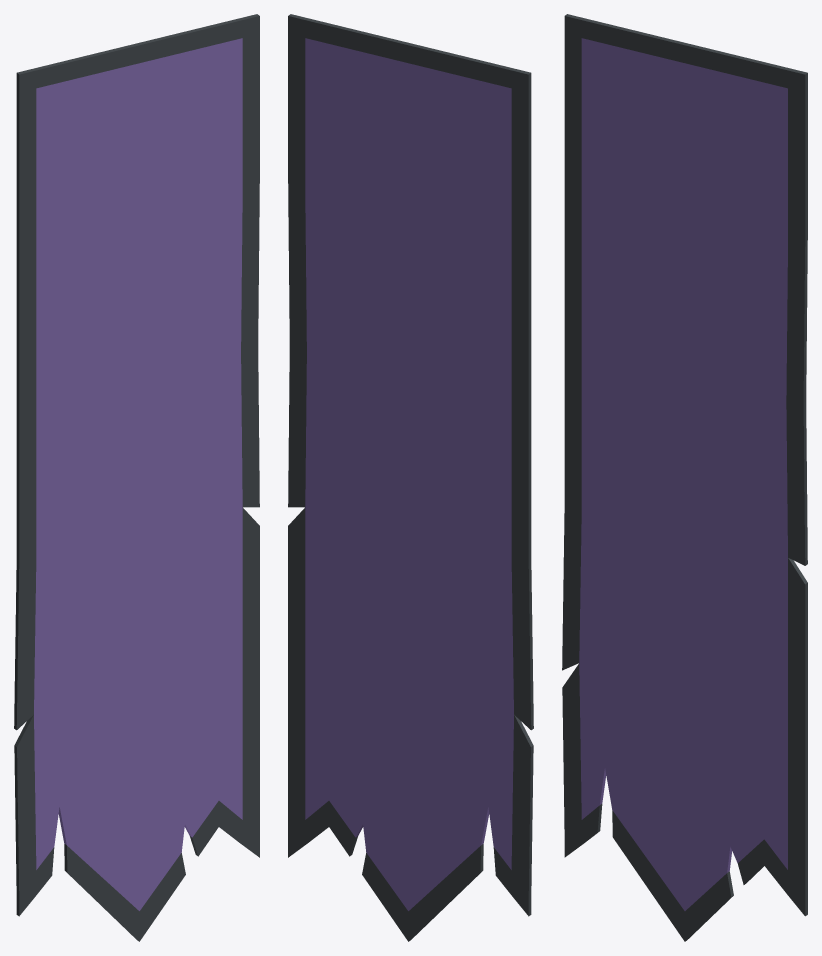
File: Flag_06.glb
3 views of the same model, side by side, from view 1: azimuth 30°, elevation 25°; view 2: azimuth 150°, elevation 25°; view 3: azimuth 330°, elevation 25° (orthographic).
Visible parts, largest first — view 1: Flag_06_LOD0; view 2: Flag_06_LOD0; view 3: Flag_06_LOD0.
Part boxes in pixels (x1,y1,x2,y2): Flag_06_LOD0: (14, 14, 259, 941); Flag_06_LOD0: (288, 14, 533, 941); Flag_06_LOD0: (562, 14, 807, 941).
Size of what is drawn, in the model's own units: 0.535 by 1.89 by 0.01.
1 material, 1 textured.
